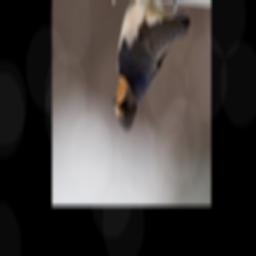Swallow: (112, 0, 191, 134)
